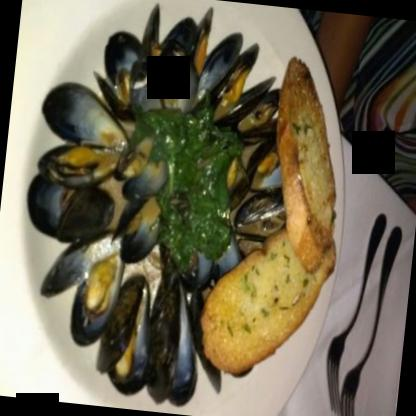toast bread: (194, 216, 331, 376), (260, 60, 350, 268)
